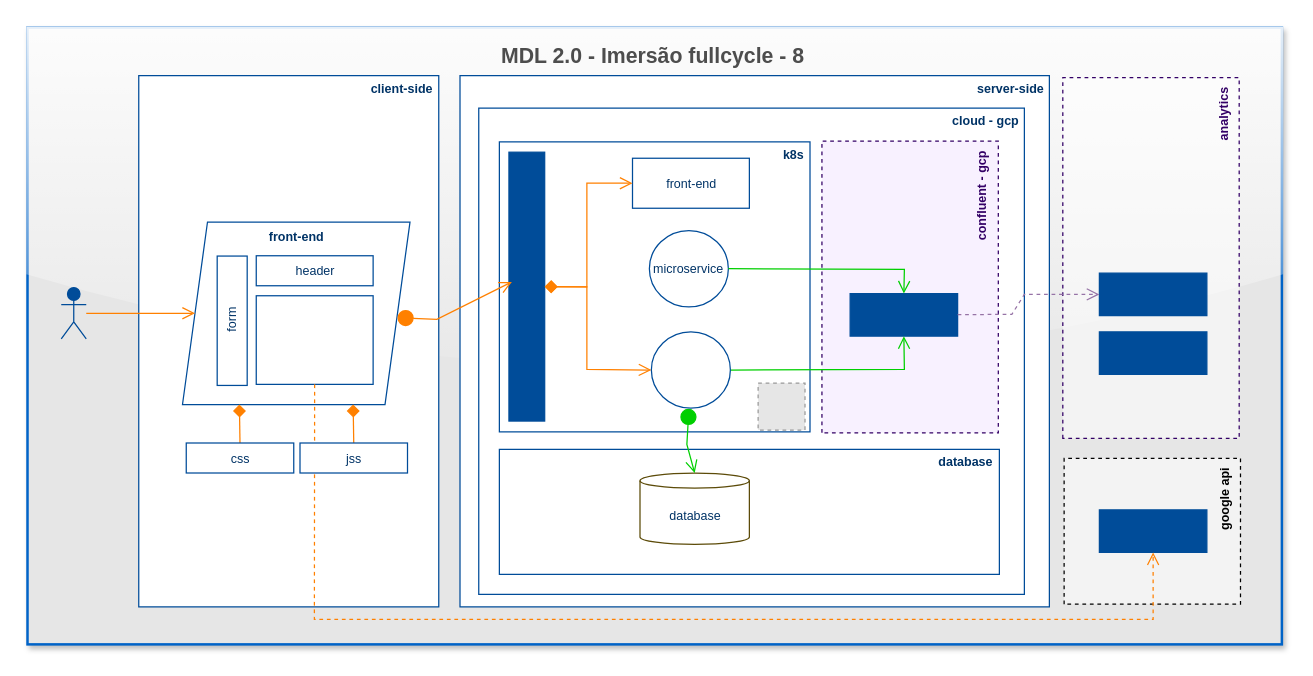
The diagram is 1313 pixels wide and 676 high, and some of its shapes have lost their labels. Grey dashed boxes stand in for pictures. Here are the shapes that lost their labels. From the top down, the centre of each, then its label:
At pixel 526 286: "nginx".
At pixel 1152 294: "elastic".
At pixel 73 312: "user".
At pixel 903 314: "stream".
At pixel 314 339: "map".
At pixel 1152 352: "kibana".
At pixel 690 369: "api".
At pixel 1152 530: "map api".
